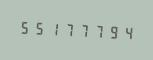five: (17, 16, 31, 37), (32, 17, 46, 38)
four: (122, 22, 136, 43)
nine: (107, 21, 121, 42)
one: (47, 18, 61, 39)
seven: (92, 20, 106, 41), (62, 19, 76, 39), (77, 20, 91, 40)
